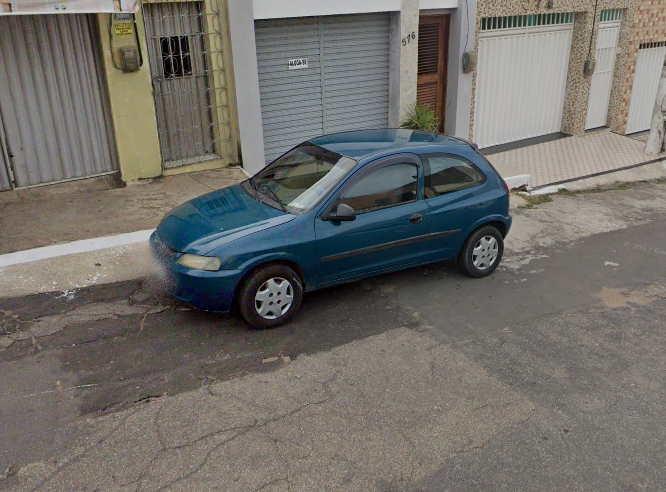car: (141, 98, 514, 333)
